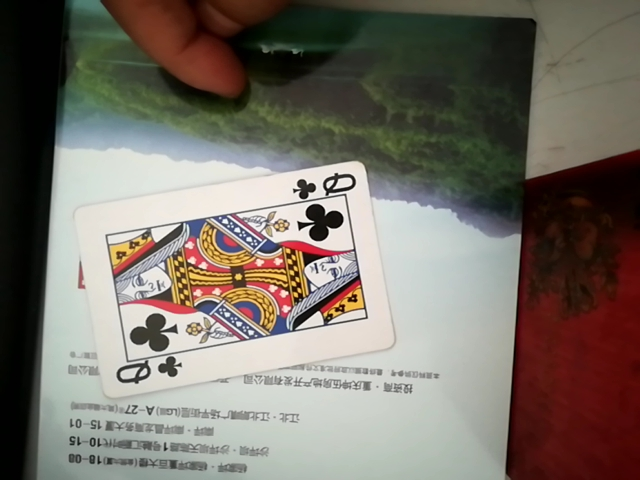mh q: (60, 154, 395, 396)
